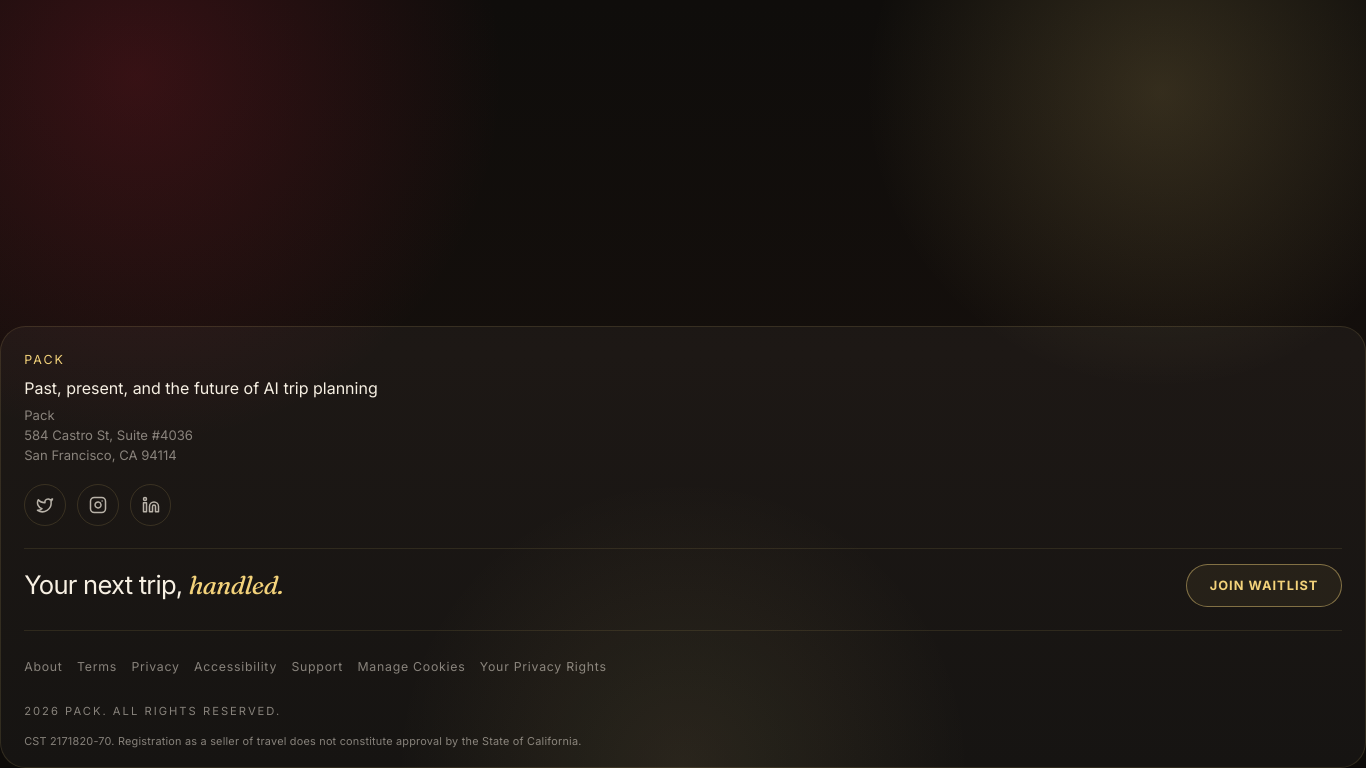
Test: ConsentFlow Integration Tests › Persistent Privacy Controls › opens cookie preferences from the footer after consent was previously set
This screenshot has width=1366, height=768.
Click the button "Manage Cookies" at (412, 667), box [358,645,466,689]
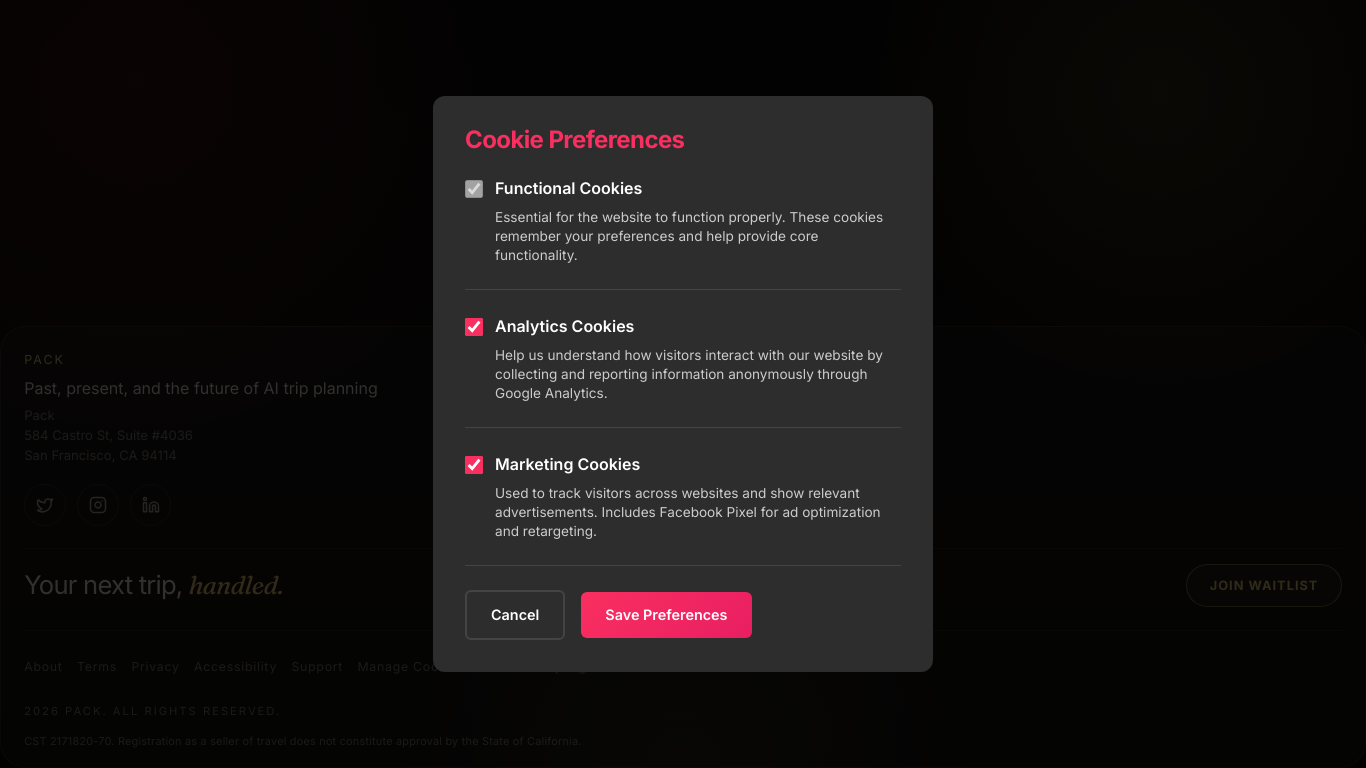
Check: the heading "Cookie Preferences" is shown, box [465,125,684,154]
